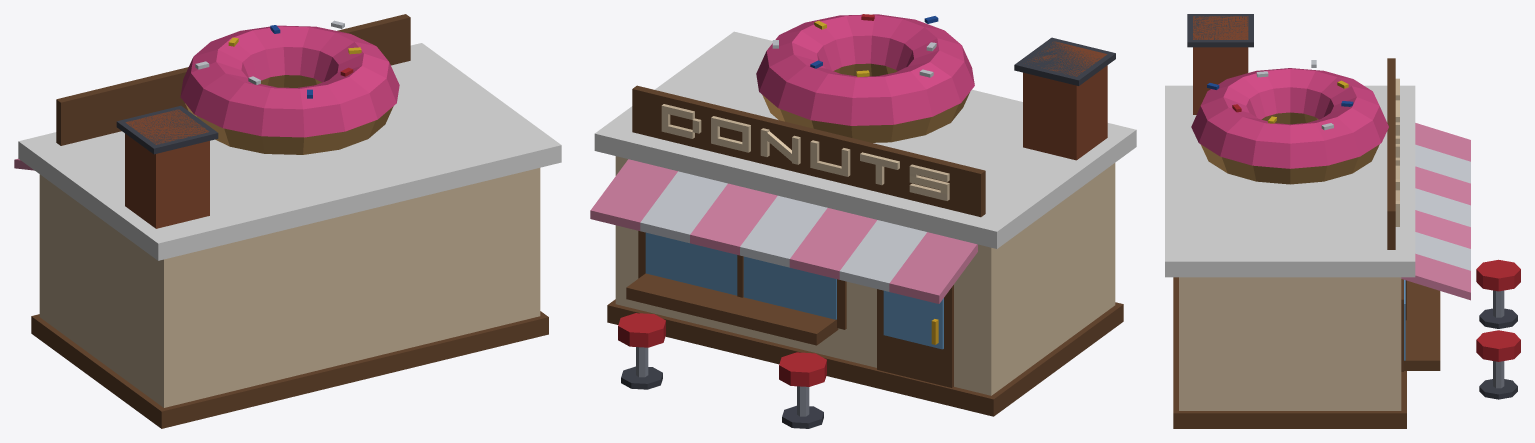
File: Decor_PoliceStation_Donuts.fbx
3 views of the same model, side by side, from view 1: azimuth 30°, elevation 25°; view 2: azimuth 150°, elevation 25°; view 3: azimuth 270°, elevation 25° (orthographic). The views are drawn at different scales.
Visible parts, largest first — view 1: Donuts_Body, Donuts_Roof; view 2: Donuts_Body, Donuts_Roof; view 3: Donuts_Body, Donuts_Roof.
Boxes of the visible parts, bbox=[...] form: Donuts_Body: bbox=[14, 14, 548, 428]; Donuts_Roof: bbox=[18, 43, 561, 260]; Donuts_Body: bbox=[590, 14, 1123, 428]; Donuts_Roof: bbox=[594, 31, 1136, 248]; Donuts_Body: bbox=[1173, 14, 1520, 428]; Donuts_Roof: bbox=[1165, 85, 1415, 277].
Size of the model in its own units: 15 by 9.9 by 12.8.
